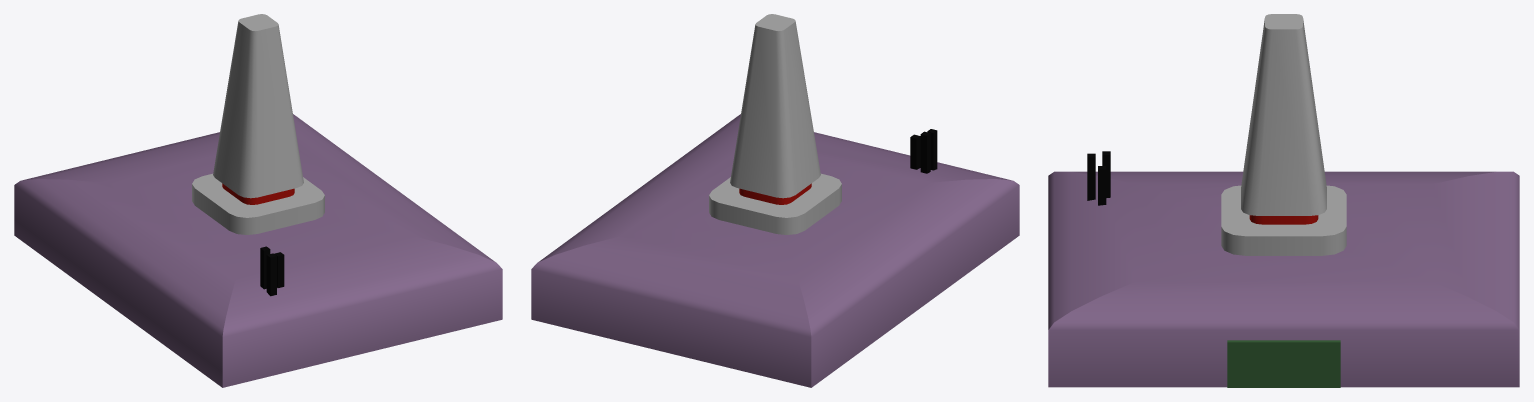
File: metallFabric.fbx
3 renders of one model, left to right at view 1: azimuth 30°, elevation 25°; view 2: azimuth 150°, elevation 25°; view 3: azimuth 270°, elevation 25°, orthographic. The views are drawn at different scales.
Parts seen in each view (by area): view 1: Cube.002; view 2: Cube.002; view 3: Cube.002.
Part boxes in pixels (x1,y1,x2,y2): Cube.002: (14, 14, 502, 387); Cube.002: (531, 14, 1019, 387); Cube.002: (1048, 14, 1519, 387).
Bounding box in the file's own units: 508 × 437 × 647.
